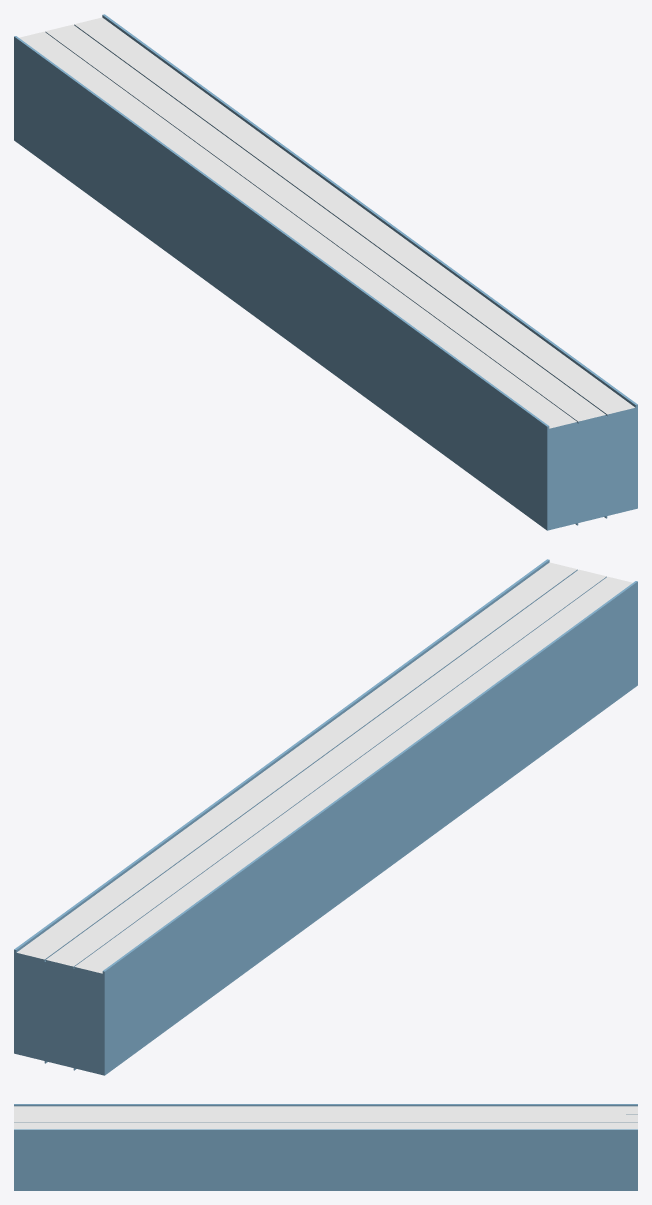
File: pod obojen.fbx
3 views of the same model, one above another, from view 1: azimuth 30°, elevation 25°; view 2: azimuth 150°, elevation 25°; view 3: azimuth 270°, elevation 25° (orthographic). The views are drawn at different scales.
Visible parts, largest first — view 1: Cube; view 2: Cube; view 3: Cube.
Boxes of the visible parts, x1=… form: Cube: x1=14, y1=14, x2=637, y2=530; Cube: x1=14, y1=559, x2=637, y2=1075; Cube: x1=14, y1=1104, x2=637, y2=1190.
Size of the model in its own units: 196 by 220 by 1998.
